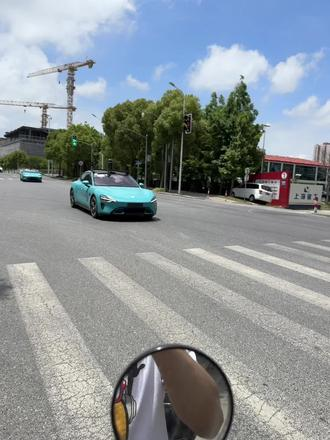su7: (65, 168, 157, 221)
